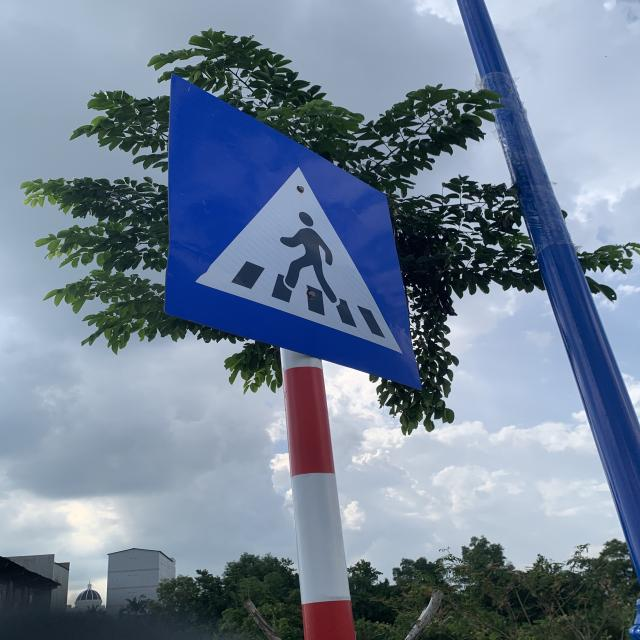Giao_Nhau_Duong_Uu_Tien: (166, 72, 421, 393)
